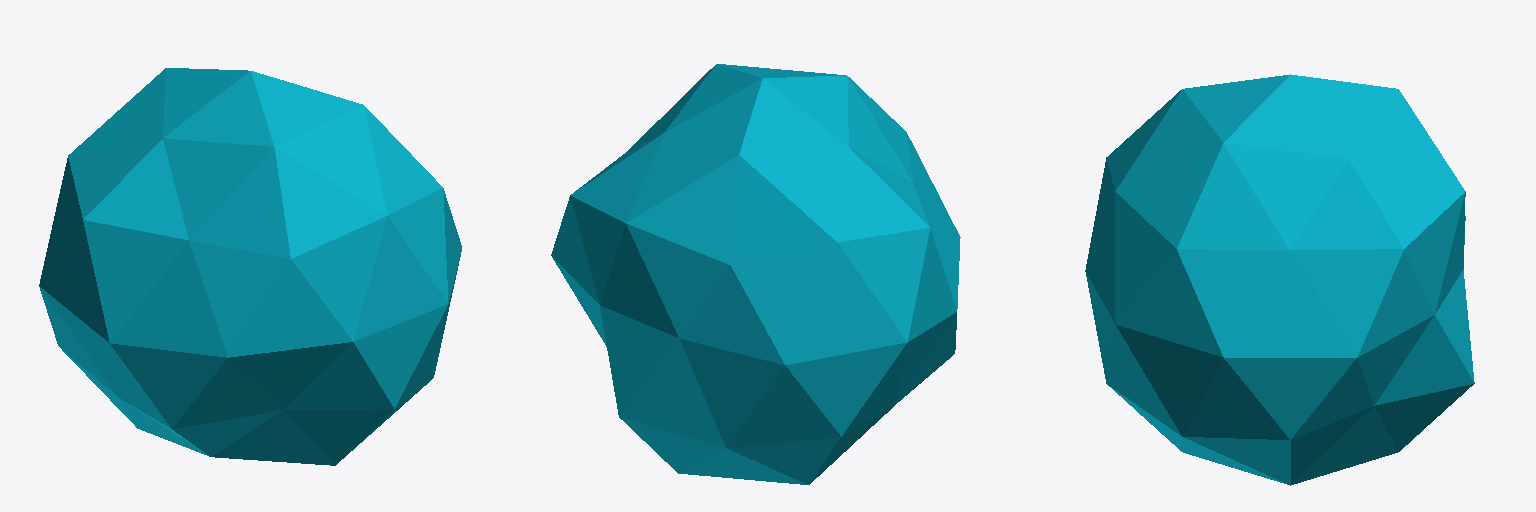
Rendered from ORBSINGLE.obj.
The picture shows the model from 3 angles: view 1: azimuth 30°, elevation 25°; view 2: azimuth 150°, elevation 25°; view 3: azimuth 270°, elevation 25°; orthographic projection.
Parts seen in each view (by area): view 1: Icosphere; view 2: Icosphere; view 3: Icosphere.
Part boxes in pixels (x1,y1,x2,y2): Icosphere: (39, 68, 461, 465); Icosphere: (551, 64, 960, 484); Icosphere: (1085, 74, 1474, 485).
Bounding box in the file's own units: 1.9 × 1.85 × 1.8.